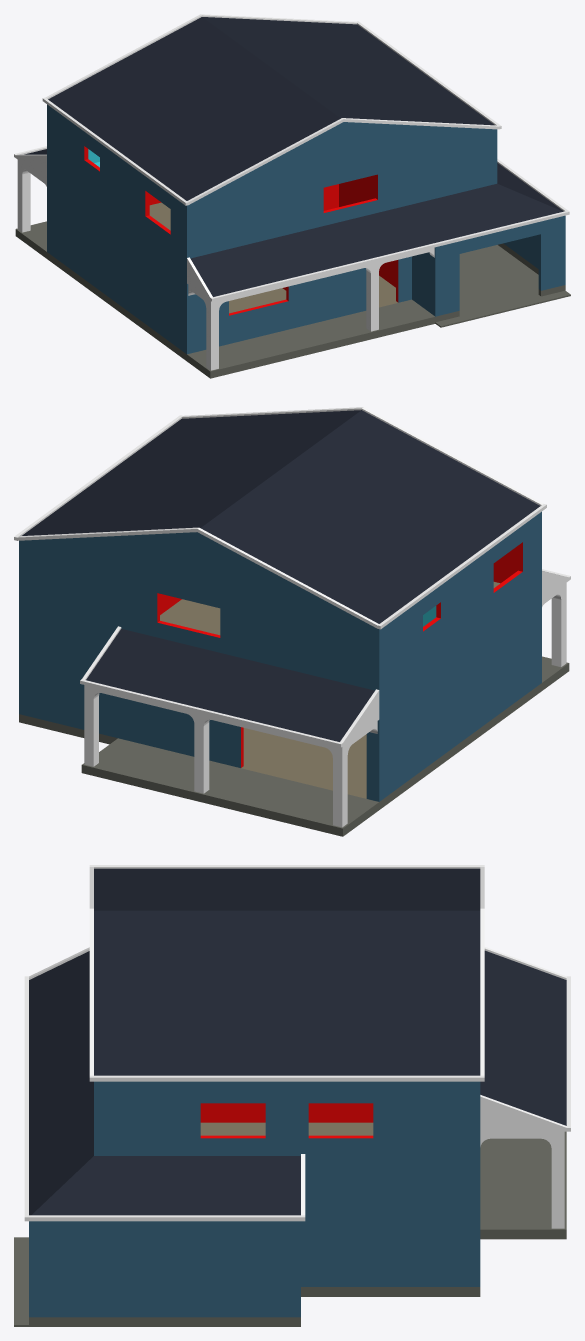
Rendered from House.fbx.
The picture shows the model from 3 angles, top to bottom: view 1: azimuth 30°, elevation 25°; view 2: azimuth 150°, elevation 25°; view 3: azimuth 270°, elevation 25°; orthographic projection. The views are drawn at different scales.
Parts seen in each view (by area): view 1: House; view 2: House; view 3: House.
Boxes of the visible parts, left/top/right/bottom form: House: left=14, top=14, right=570, bottom=378; House: left=14, top=407, right=570, bottom=836; House: left=14, top=865, right=570, bottom=1326.
Size of the model in its own units: 1330 by 725 by 1290.
